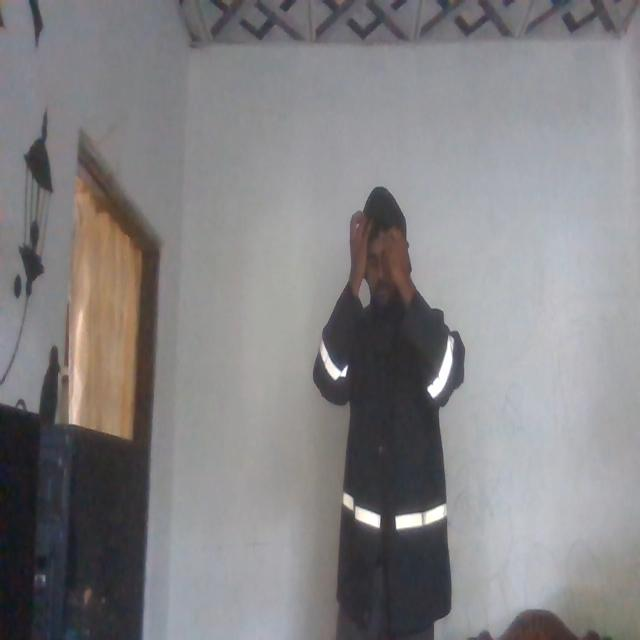Jacket_Wearer: (303, 283, 459, 609)
Person: (304, 168, 458, 640)
